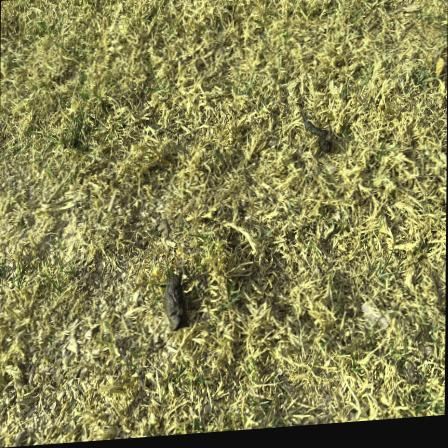dog-poop: (156, 267, 189, 341), (295, 117, 336, 169)
